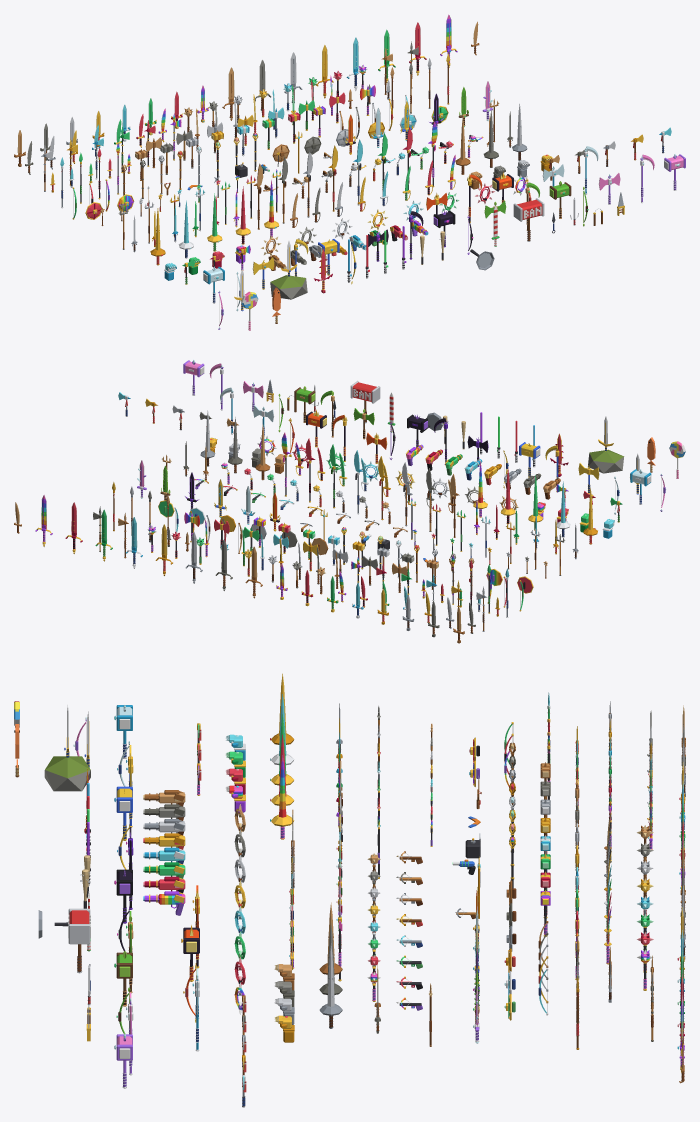
File: Weapons.fbx
The picture shows the model from 3 angles, top to bottom: view 1: azimuth 30°, elevation 25°; view 2: azimuth 150°, elevation 25°; view 3: azimuth 270°, elevation 25°; orthographic projection. The views are drawn at different scales.
Visible parts, largest first — view 1: SwordInStone, Banhammer; view 2: SwordInStone, Banhammer; view 3: SwordInStone, Banhammer.
Part boxes in pixels (<box>): SwordInStone: <box>270,241,307,299</box>; Banhammer: <box>513,198,544,241</box>; SwordInStone: <box>588,416,624,473</box>; Banhammer: <box>350,380,380,423</box>; SwordInStone: <box>44,705,90,791</box>; Banhammer: <box>68,908,90,973</box>.
Bounding box in the file's own units: 69.7 × 10.58 × 54.57.
Materials: 1 (1 with a texture image).
